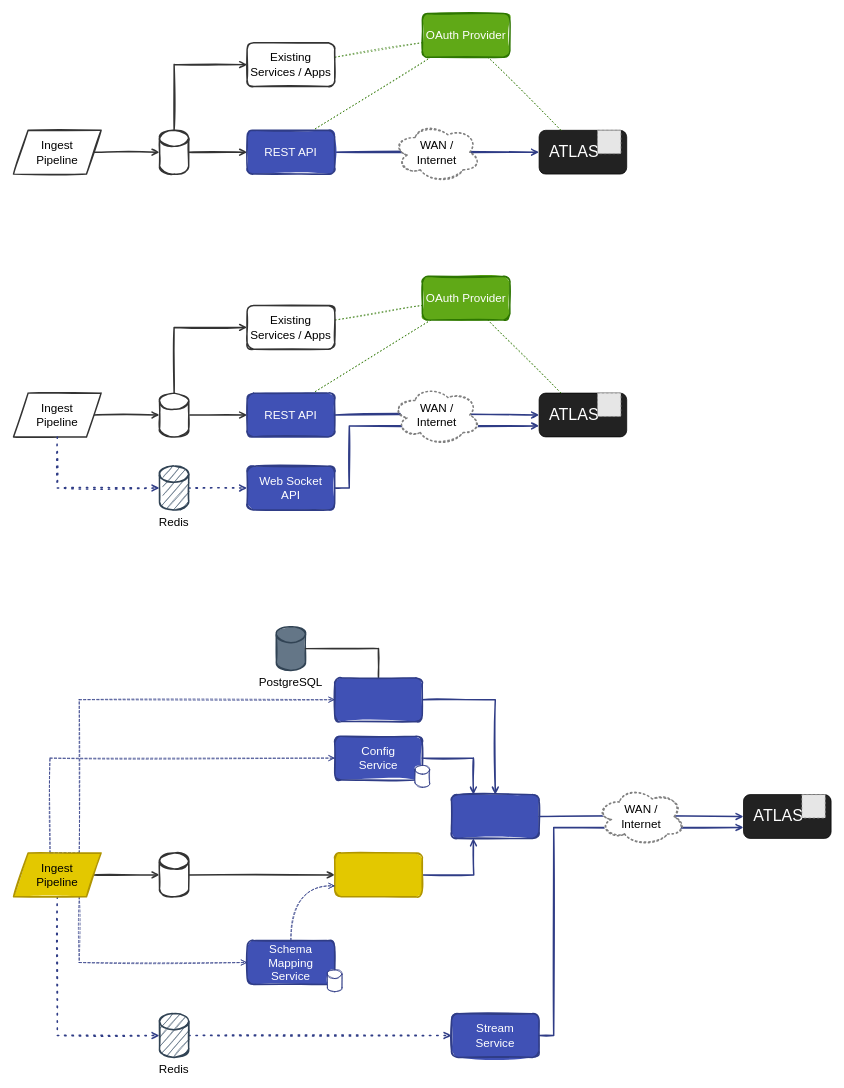
Some shapes in this 844 by 1088 pixel diagram are drawn without their labels. Grey dashed boxes stand in for pictures. Here are the shapes that lost their labels. From the top down, the centre of each, then its label:
At pixel 378 699: "Session Service".
At pixel 494 816: "Gateway Service".
At pixel 378 874: "Data Adapter Service".
